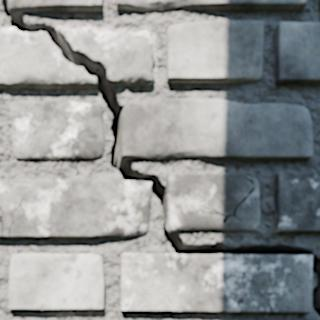brick: (122, 99, 311, 159), (121, 254, 311, 311), (0, 179, 150, 237), (167, 21, 262, 82), (11, 102, 104, 159), (167, 174, 259, 230), (9, 254, 103, 308), (276, 23, 319, 84), (275, 174, 319, 232), (116, 0, 306, 10), (9, 0, 101, 11)
broken_brick: (0, 27, 95, 89), (59, 26, 154, 86)
crack: (0, 0, 319, 317), (197, 175, 255, 223), (7, 194, 25, 237), (0, 205, 3, 237)
